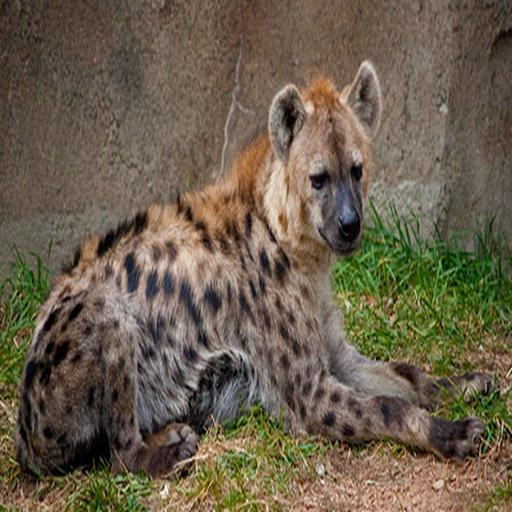Hyena: (15, 57, 503, 495)
